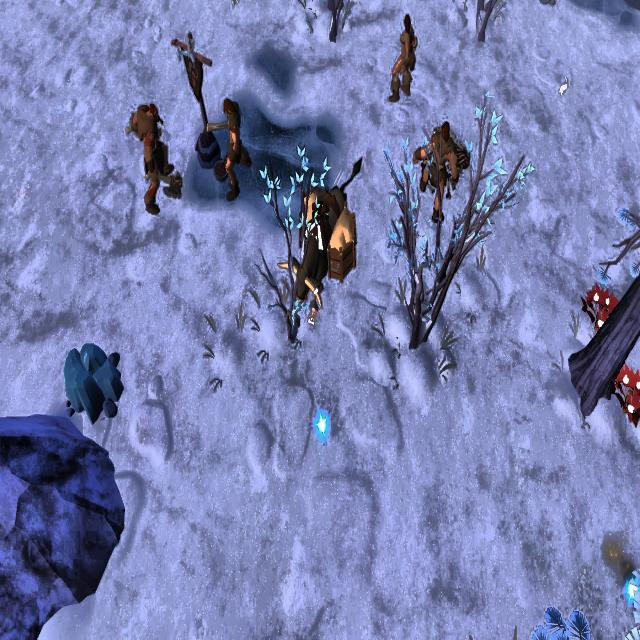enemy_factionKeeper: (125, 99, 183, 211), (213, 91, 254, 199), (414, 115, 458, 215), (387, 13, 418, 98)
fiber_t5: (582, 284, 622, 337), (611, 364, 640, 429)
rock_t4: (60, 336, 126, 424)
